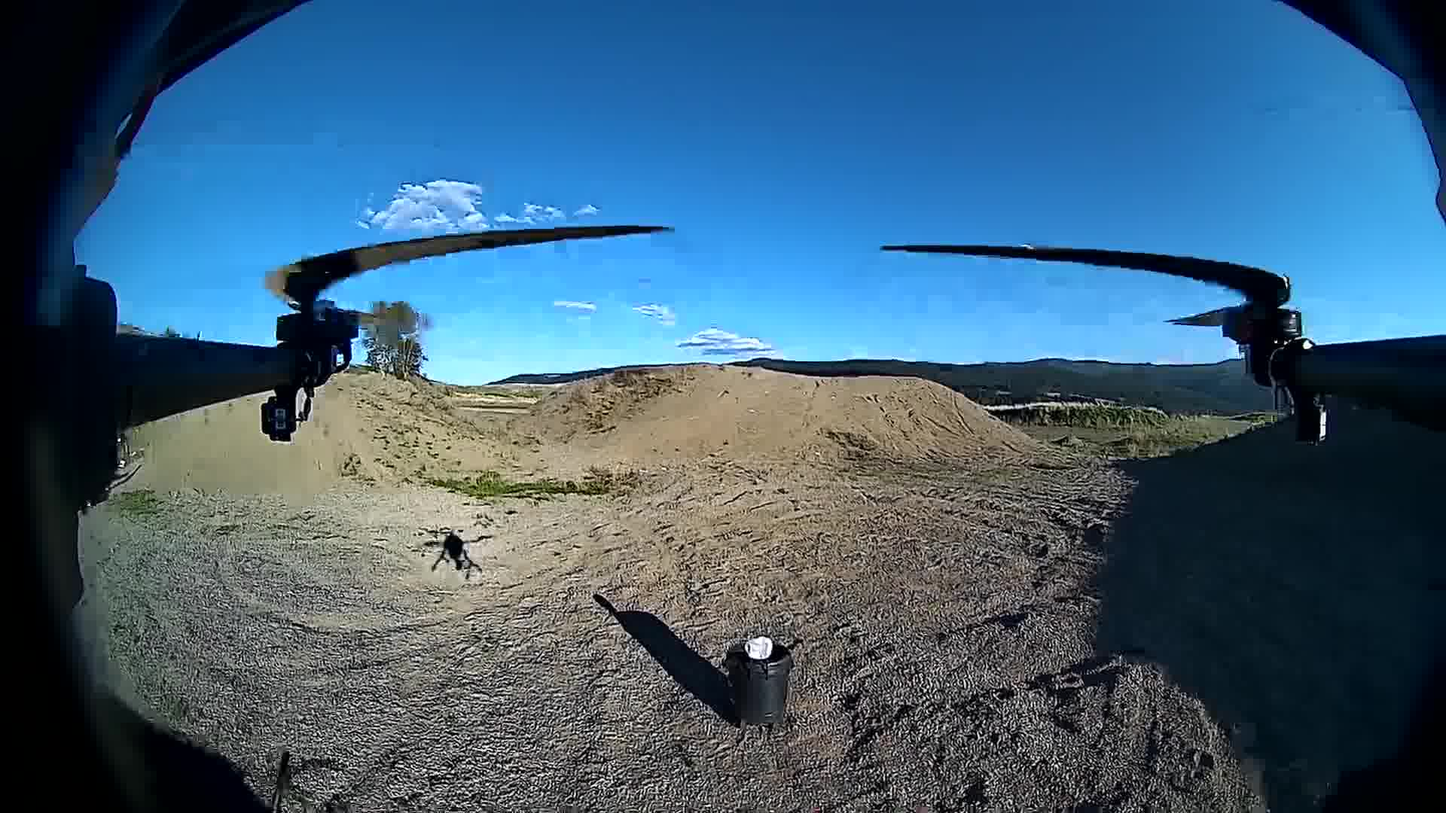Target: (742, 632, 780, 662)
